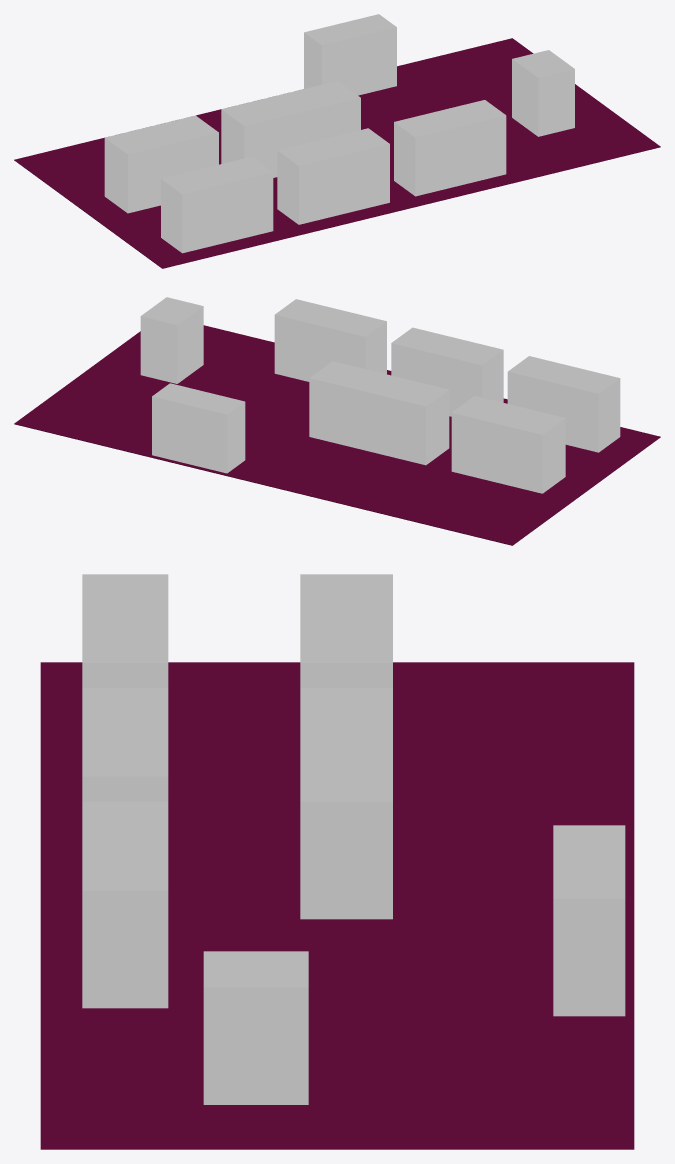
Rendered from njc-l1-sanctuary-v6-8-5.glb.
3 views of the same model, one above another, from view 1: azimuth 30°, elevation 25°; view 2: azimuth 150°, elevation 25°; view 3: azimuth 270°, elevation 25° (orthographic). The views are drawn at different scales.
Visible parts, largest first — view 1: Base, S6, S5, S4, S2, S3, S1, S7; view 2: Base, S2, S3, S4, S6, S1, S5, S7; view 3: Base, S2, S6, S7, S1, S3, S5, S4.
Part boxes in pixels (x1,y1,x2,y2): Base: [14, 38, 660, 268]; S6: [394, 100, 506, 196]; S5: [277, 128, 389, 224]; S4: [161, 156, 273, 253]; S2: [221, 81, 360, 177]; S3: [104, 115, 218, 213]; S1: [304, 14, 396, 95]; S7: [512, 50, 574, 136]; Base: [14, 325, 660, 545]; S2: [309, 361, 449, 465]; S3: [451, 396, 565, 493]; S4: [507, 356, 620, 452]; S6: [274, 299, 386, 381]; S1: [152, 383, 245, 473]; S5: [391, 327, 503, 416]; S7: [140, 297, 203, 383]; Base: [40, 662, 634, 1149]; S2: [300, 688, 392, 919]; S6: [82, 801, 168, 1008]; S7: [203, 951, 308, 1104]; S1: [553, 825, 625, 1016]; S3: [300, 574, 392, 687]; S5: [82, 688, 168, 801]; S4: [82, 574, 168, 687].
Bounding box in the file's own units: 1.76 × 0.2 × 0.9072.
